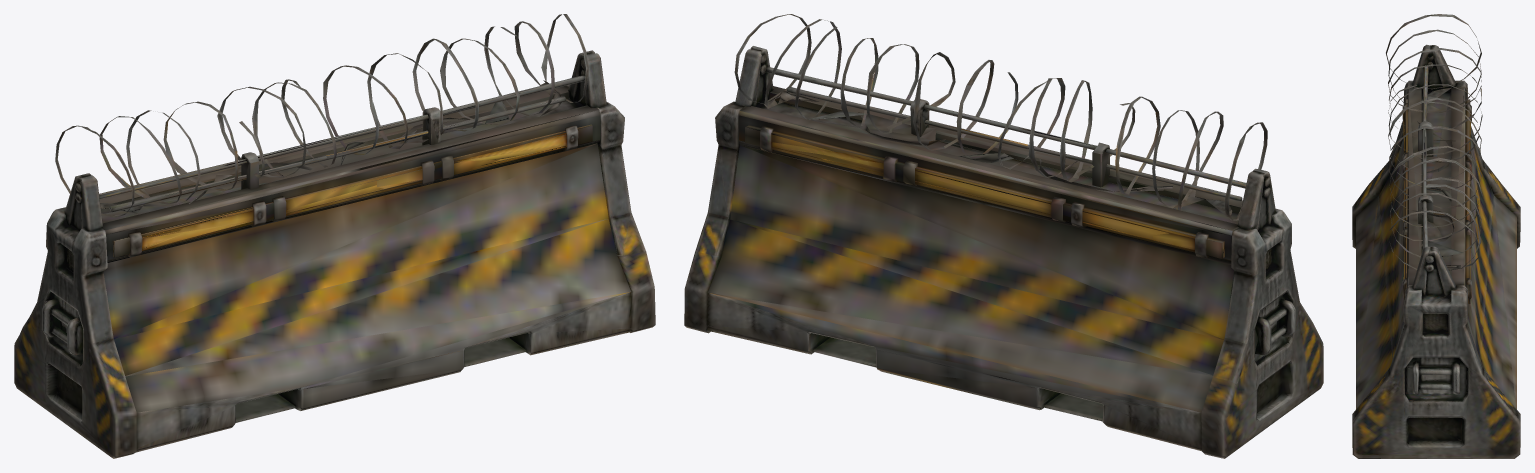
Rendered from barricade.glb.
3 renders of one model, left to right at view 1: azimuth 30°, elevation 25°; view 2: azimuth 150°, elevation 25°; view 3: azimuth 270°, elevation 25°, orthographic. The views are drawn at different scales.
Parts seen in each view (by area): view 1: geometry_0; view 2: geometry_0; view 3: geometry_0.
Boxes of the visible parts, box(x1,y1,x2,y2) form: geometry_0: box(14, 14, 655, 458); geometry_0: box(684, 14, 1323, 458); geometry_0: box(1352, 14, 1520, 458).
Bounding box in the file's own units: 0.9497 × 0.4736 × 0.3022.
1 material, 1 textured.
